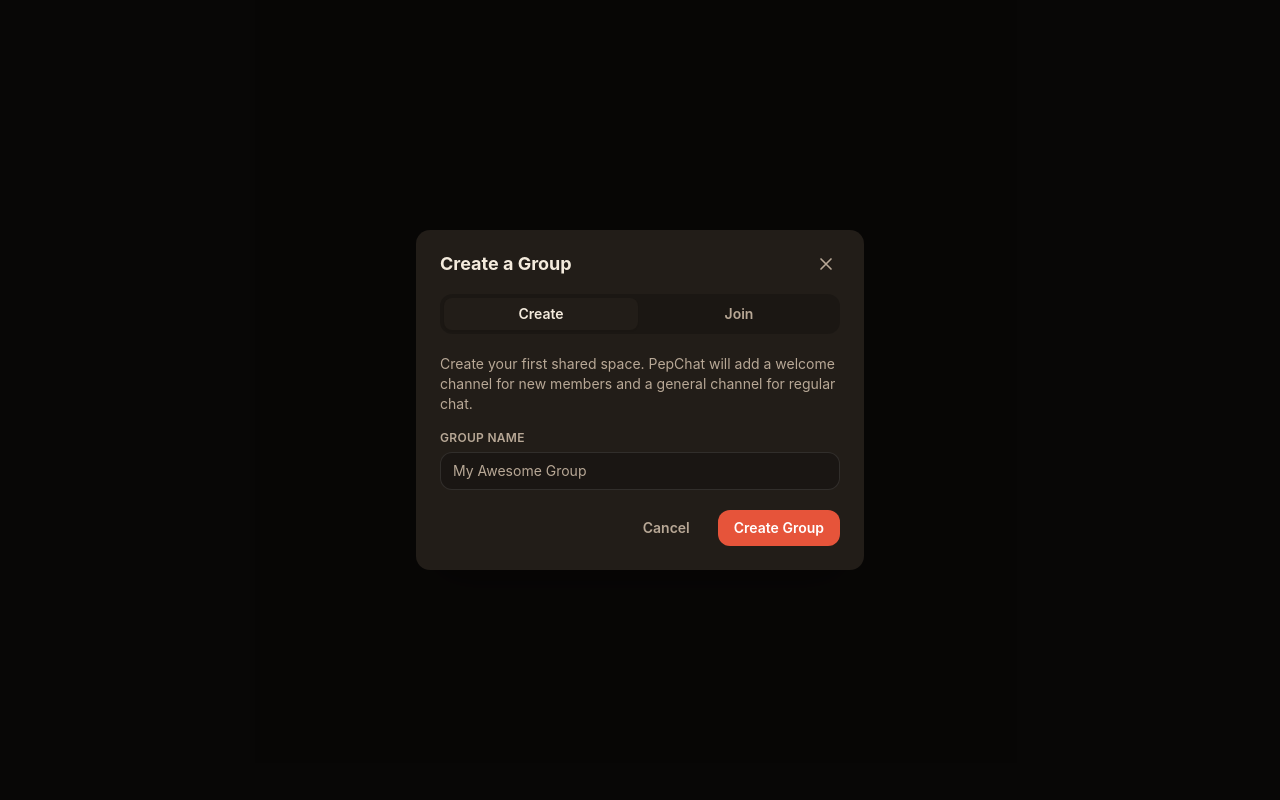
Test: CreateGroupModal › shows server error from joinGroup
Click the button with test id "tab-join". click: (739, 314)
box: [642,298,836,330]
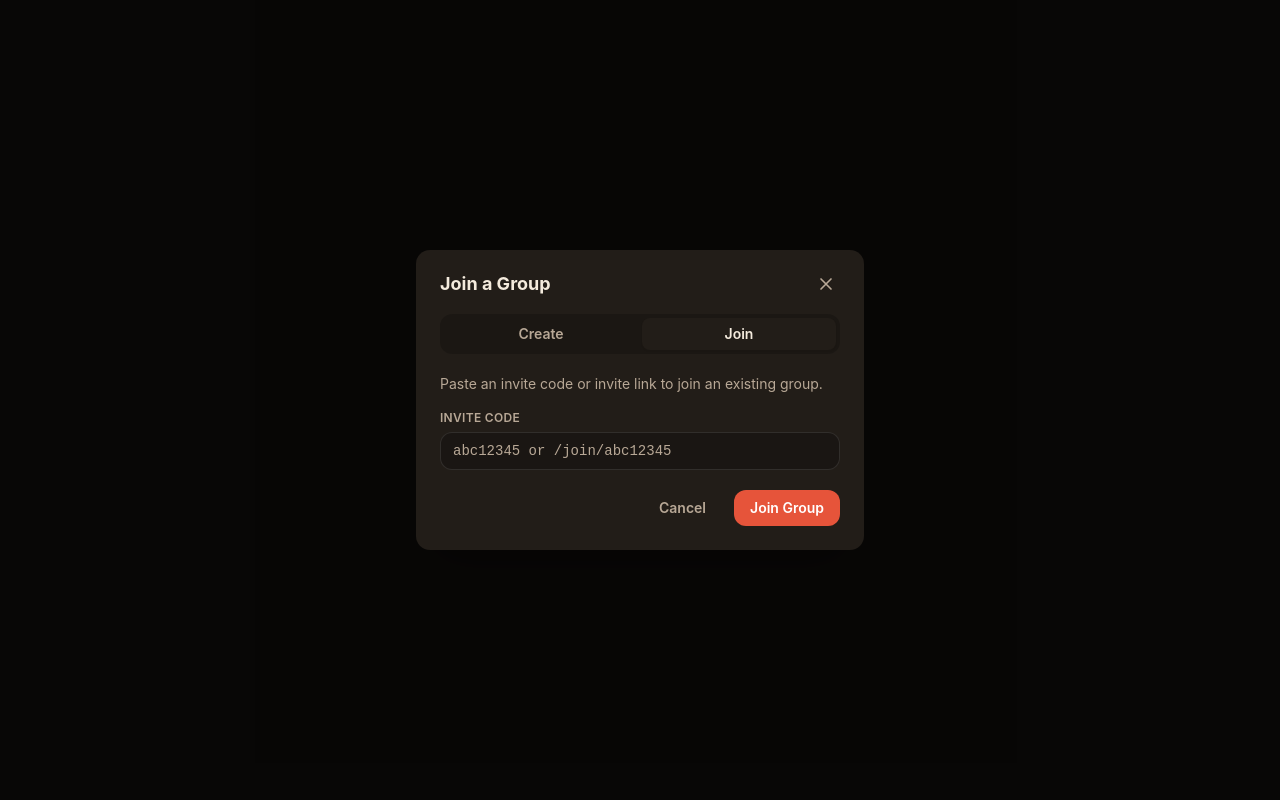
Type "BAD" into the field labelled "Invite Code". click: (640, 451)
box: [440,432,840,470]
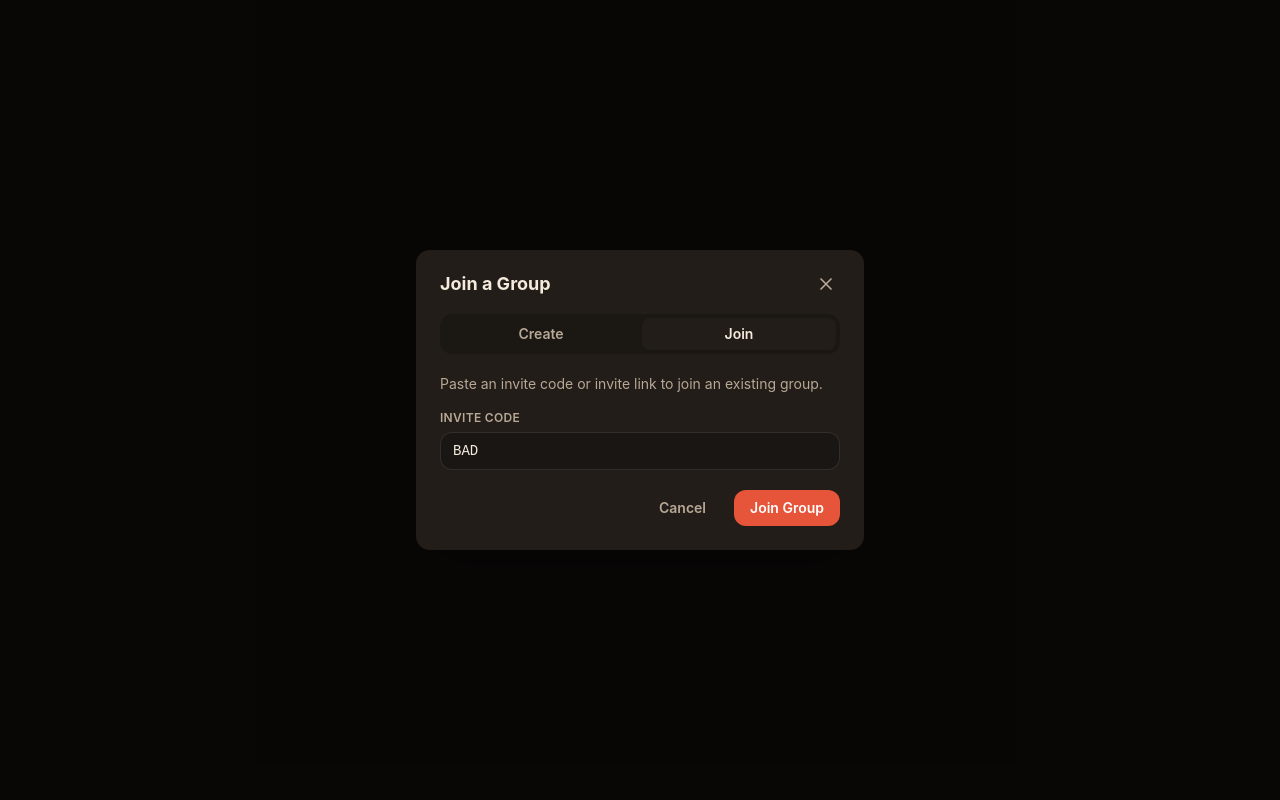
Submit the form, box [440,410,840,526]
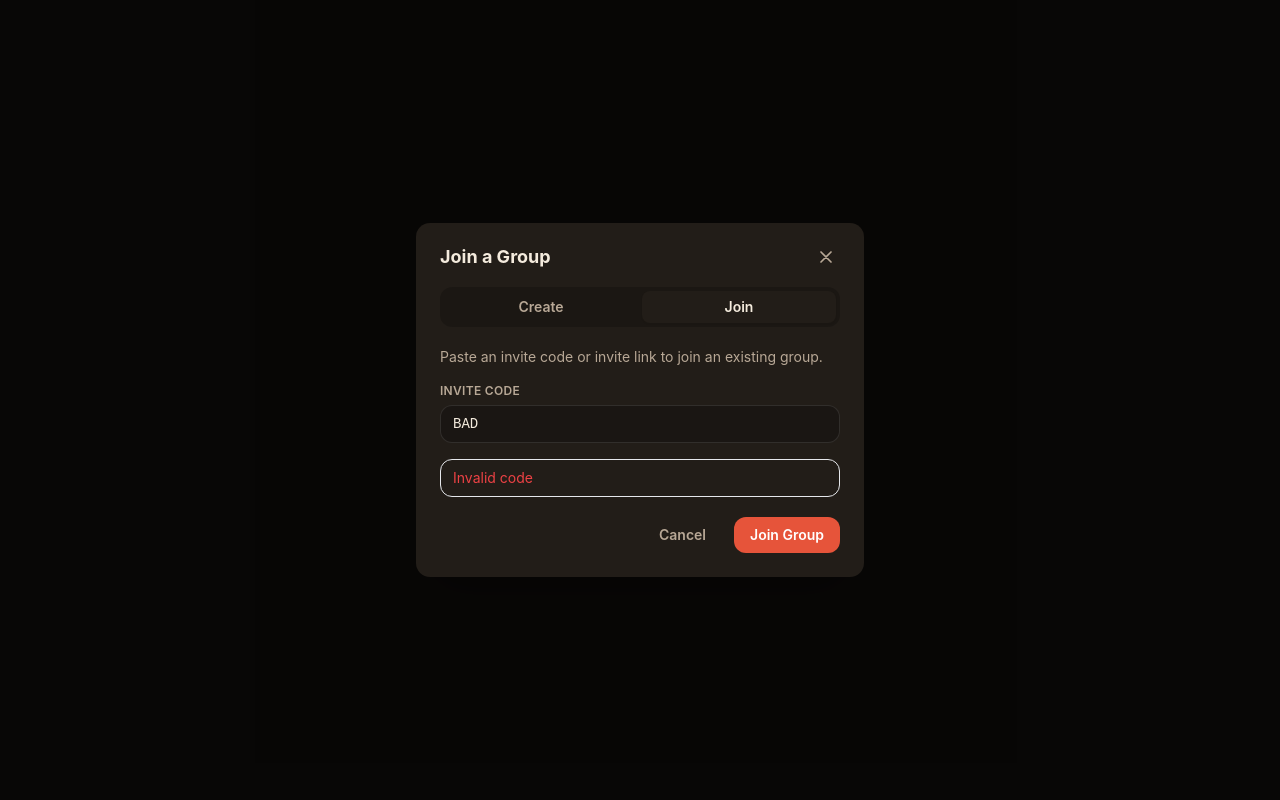
Check: the text "Invalid code" is shown, box [440,459,840,497]
